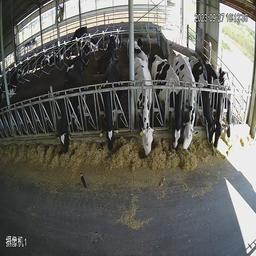cow: (53, 50, 94, 164), (191, 47, 222, 150), (152, 48, 181, 152), (132, 50, 157, 161), (101, 45, 125, 157), (176, 46, 199, 150), (219, 61, 238, 146), (69, 20, 91, 54), (135, 30, 152, 61)
